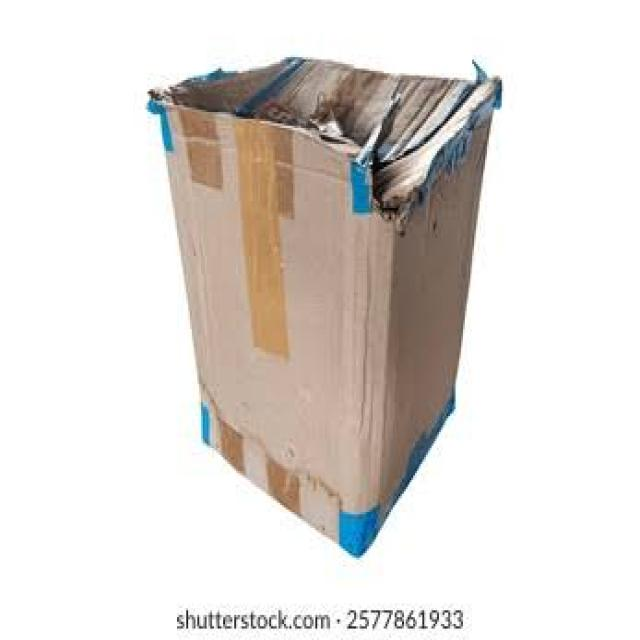package_damage: (151, 39, 507, 237)
